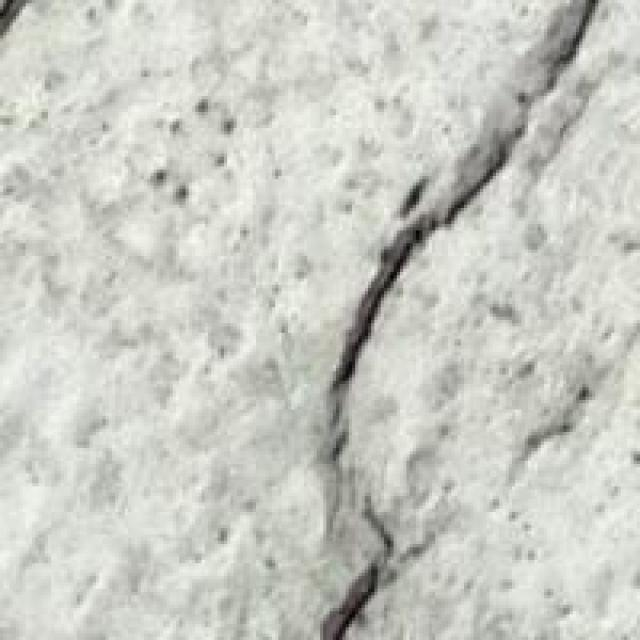Crack: (324, 6, 598, 637)
